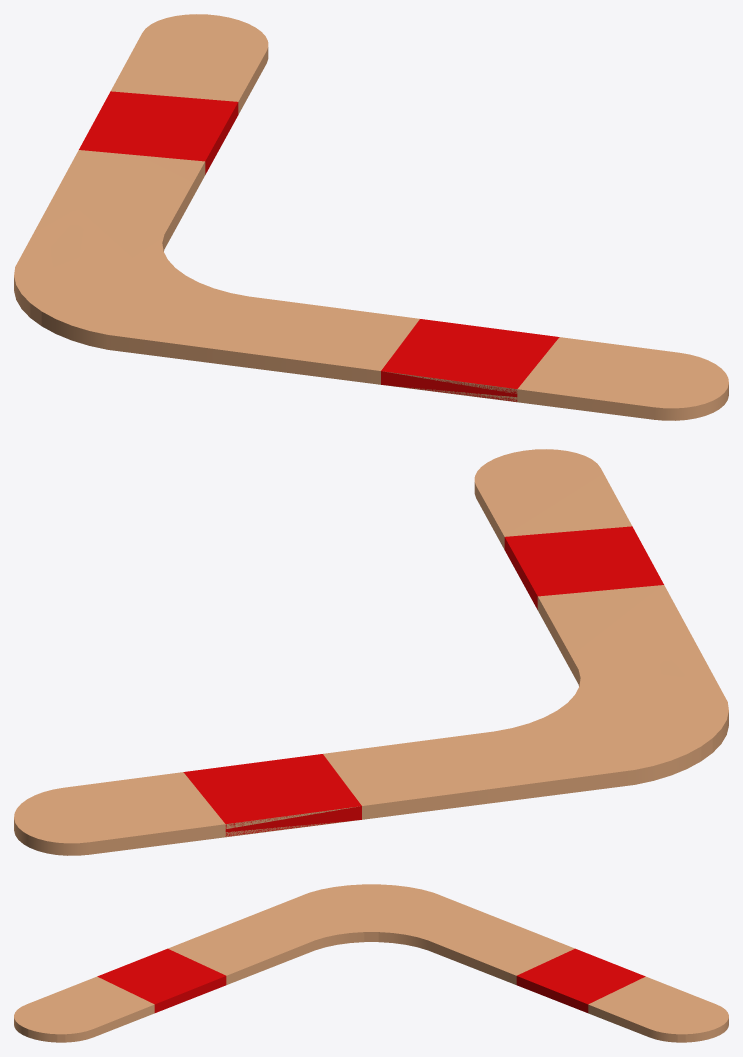
The model's file is boomerang.fbx.
The picture shows the model from 3 angles, top to bottom: view 1: azimuth 30°, elevation 25°; view 2: azimuth 150°, elevation 25°; view 3: azimuth 270°, elevation 25°; orthographic projection. The views are drawn at different scales.
Visible parts, largest first — view 1: Cube; view 2: Cube; view 3: Cube.
Boxes of the visible parts, box(x1,y1,x2,y2) form: Cube: box(14, 14, 728, 420); Cube: box(14, 449, 728, 855); Cube: box(14, 884, 728, 1042).
Bounding box in the file's own units: 792 × 25.06 × 1607.
